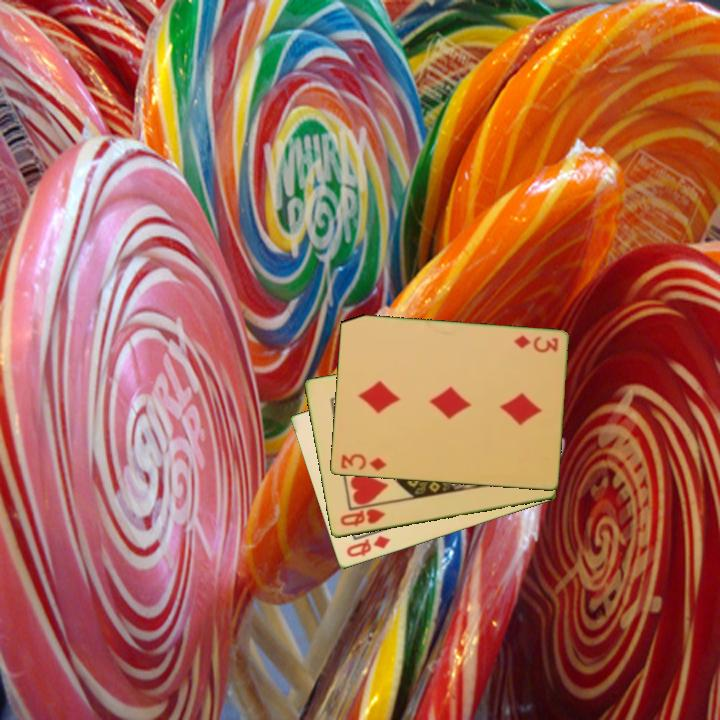3d: (337, 450, 389, 474), (510, 332, 561, 355)
Qd: (343, 532, 393, 561)
Qh: (336, 505, 388, 530)
